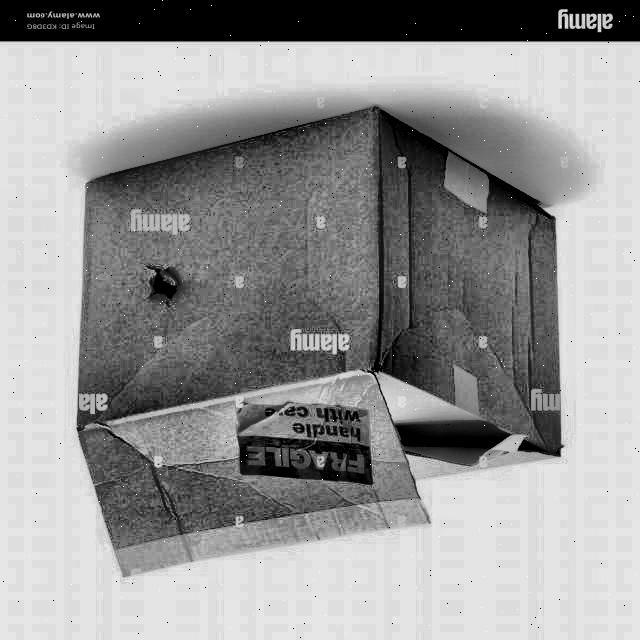box: (60, 99, 595, 586)
hole: (143, 259, 185, 311)
